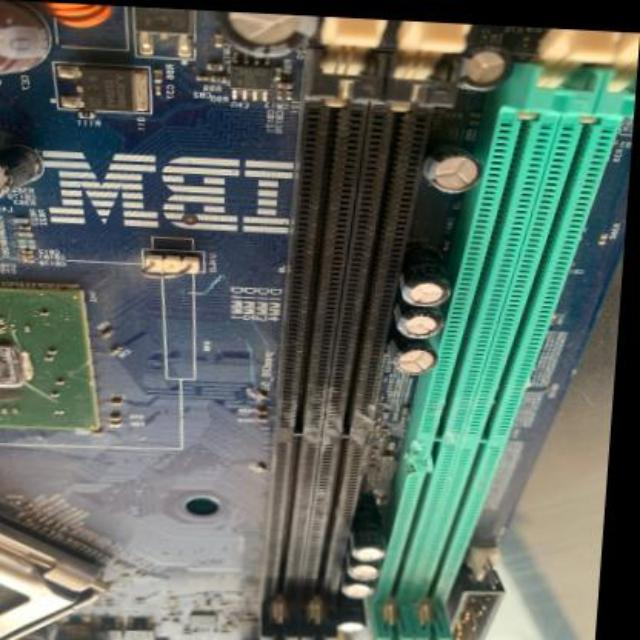PCB: (2, 7, 640, 638)
